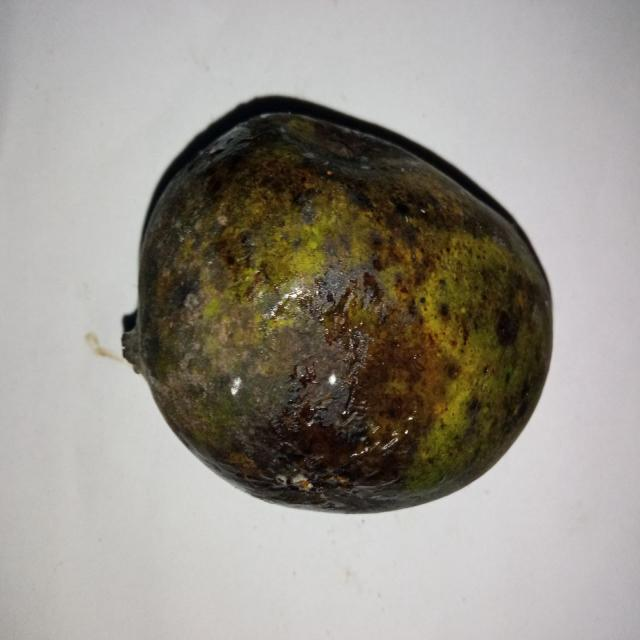rotten_mango: (118, 99, 552, 511)
